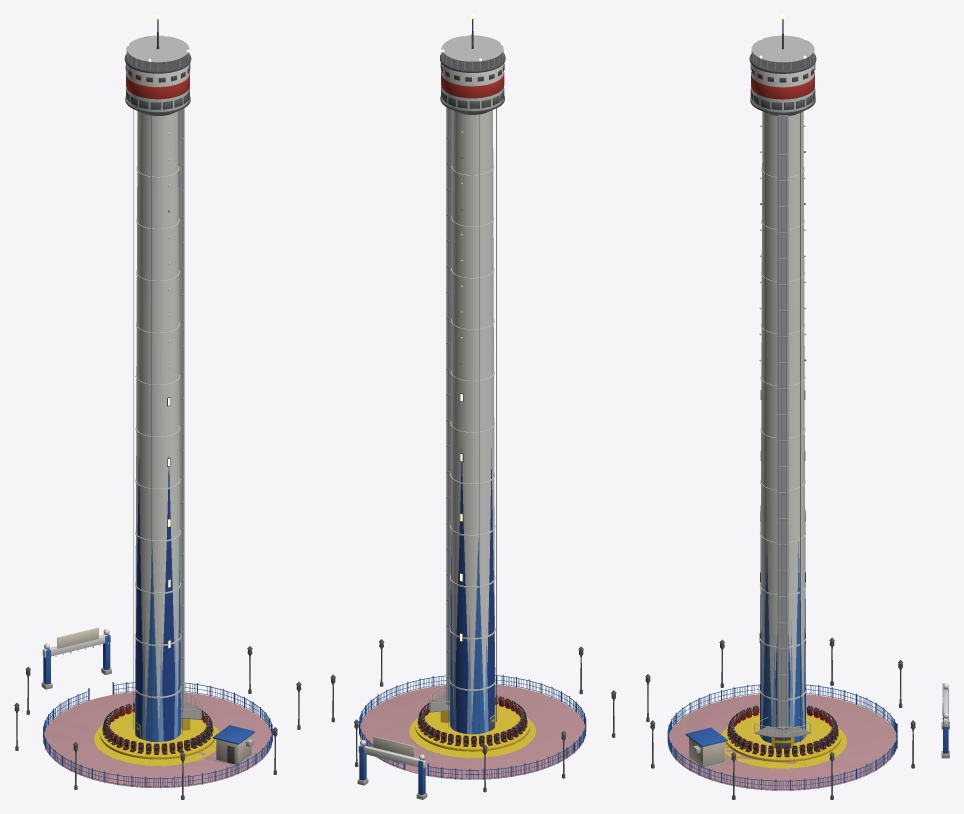
The picture shows the model from 3 angles, left to right: view 1: azimuth 30°, elevation 25°; view 2: azimuth 150°, elevation 25°; view 3: azimuth 270°, elevation 25°; orthographic projection.
Visible parts, largest first — view 1: MI36_Static_GD_TowerWhite, MI36_Static_GD_PlatformPaint, MI36_Static_GD_SteelDark, MI36_Static_GD_FenceBlue, MI36_Static_GD_StripeBlue, MI36_Static_GD_TrackGrey, MI36_Static_GD_SteelBare, MI36_Static_GD_StripeBlue2, Gyro_Ring_GD_HazardYellow, MI36_Static_GD_HazardYellow, MI36_Static_GD_StripeBlue3, Gyro_Ring_GD_SeatShellRed (+3 smaller); view 2: MI36_Static_GD_TowerWhite, MI36_Static_GD_PlatformPaint, MI36_Static_GD_SteelDark, MI36_Static_GD_StripeBlue, MI36_Static_GD_FenceBlue, MI36_Static_GD_TrackGrey, MI36_Static_GD_SteelBare, MI36_Static_GD_StripeBlue2, Gyro_Ring_GD_HazardYellow, MI36_Static_GD_HazardYellow, MI36_Static_GD_StripeBlue3, MI36_Static_GD_CapRedBand (+2 smaller); view 3: MI36_Static_GD_TowerWhite, MI36_Static_GD_PlatformPaint, MI36_Static_GD_TrackGrey, MI36_Static_GD_SteelBare, MI36_Static_GD_FenceBlue, MI36_Static_GD_SteelDark, MI36_Static_GD_StripeBlue2, Gyro_Ring_GD_HazardYellow, Gyro_Ring_GD_SeatShellRed, MI36_Static_GD_HazardYellow, MI36_Static_GD_StripeBlue, MI36_Static_GD_StripeBlue3 (+4 smaller).
Part boxes in pixels (bbox=[...]): MI36_Static_GD_TowerWhite: bbox=[42, 64, 189, 729]; MI36_Static_GD_PlatformPaint: bbox=[44, 692, 271, 787]; MI36_Static_GD_SteelDark: bbox=[14, 19, 301, 799]; MI36_Static_GD_FenceBlue: bbox=[43, 634, 272, 788]; MI36_Static_GD_StripeBlue: bbox=[135, 456, 174, 741]; MI36_Static_GD_TrackGrey: bbox=[135, 109, 184, 738]; MI36_Static_GD_SteelBare: bbox=[126, 35, 253, 746]; MI36_Static_GD_StripeBlue2: bbox=[135, 537, 180, 741]; Gyro_Ring_GD_HazardYellow: bbox=[99, 710, 216, 756]; MI36_Static_GD_HazardYellow: bbox=[94, 727, 219, 766]; MI36_Static_GD_StripeBlue3: bbox=[135, 618, 177, 741]; Gyro_Ring_GD_SeatShellRed: bbox=[102, 704, 213, 754]; MI36_Static_GD_TowerWhite: bbox=[358, 63, 503, 768]; MI36_Static_GD_PlatformPaint: bbox=[360, 684, 584, 779]; MI36_Static_GD_SteelDark: bbox=[330, 19, 616, 792]; MI36_Static_GD_StripeBlue: bbox=[455, 448, 494, 733]; MI36_Static_GD_FenceBlue: bbox=[359, 675, 586, 794]; MI36_Static_GD_TrackGrey: bbox=[446, 108, 494, 730]; MI36_Static_GD_SteelBare: bbox=[441, 35, 503, 704]; MI36_Static_GD_StripeBlue2: bbox=[450, 536, 495, 734]; Gyro_Ring_GD_HazardYellow: bbox=[415, 703, 530, 748]; MI36_Static_GD_HazardYellow: bbox=[409, 719, 535, 758]; MI36_Static_GD_StripeBlue3: bbox=[453, 614, 495, 734]; MI36_Static_GD_CapRedBand: bbox=[441, 71, 504, 98]; MI36_Static_GD_TowerWhite: bbox=[751, 64, 948, 726]; MI36_Static_GD_PlatformPaint: bbox=[669, 694, 897, 790]; MI36_Static_GD_TrackGrey: bbox=[777, 115, 788, 729]; MI36_Static_GD_SteelBare: bbox=[692, 35, 814, 753]; MI36_Static_GD_FenceBlue: bbox=[667, 684, 948, 790]; MI36_Static_GD_SteelDark: bbox=[645, 19, 915, 799]; MI36_Static_GD_StripeBlue2: bbox=[762, 542, 803, 743]; Gyro_Ring_GD_HazardYellow: bbox=[724, 712, 841, 759]; Gyro_Ring_GD_SeatShellRed: bbox=[727, 707, 838, 757]; MI36_Static_GD_HazardYellow: bbox=[721, 729, 846, 768]; MI36_Static_GD_StripeBlue: bbox=[760, 505, 805, 736]; MI36_Static_GD_StripeBlue3: bbox=[760, 620, 805, 738].
Bounding box in the file's own units: 28.79 × 83.93 × 31.82.
